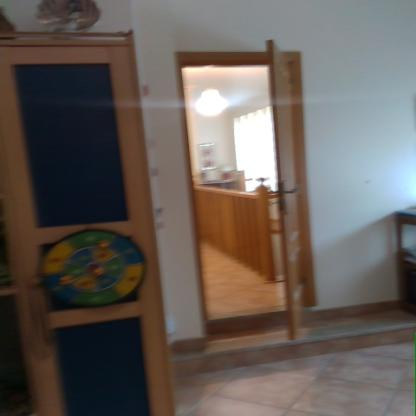semi: (164, 34, 324, 342)
